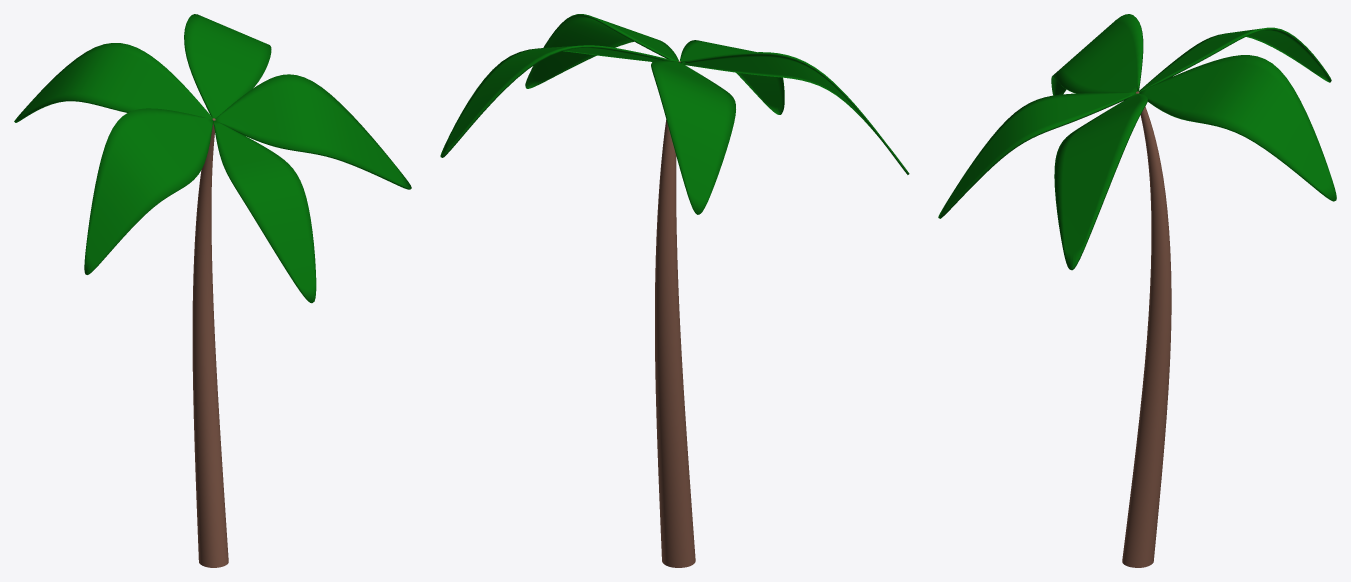
Rendered from Palmtree 1.fbx.
The picture shows the model from 3 angles, left to right: view 1: azimuth 30°, elevation 25°; view 2: azimuth 150°, elevation 25°; view 3: azimuth 270°, elevation 25°; orthographic projection. The views are drawn at different scales.
Visible parts, largest first — view 1: Cylinder.001, Cylinder; view 2: Cylinder.001, Cylinder; view 3: Cylinder.001, Cylinder.
Part boxes in pixels (bbox=[...]): Cylinder.001: bbox=[14, 14, 411, 303]; Cylinder: bbox=[192, 118, 228, 567]; Cylinder.001: bbox=[440, 14, 909, 214]; Cylinder: bbox=[655, 61, 695, 567]; Cylinder.001: bbox=[938, 14, 1336, 270]; Cylinder: bbox=[1122, 91, 1171, 567].
Size of the model in its own units: 1971 by 2778 by 1929.
